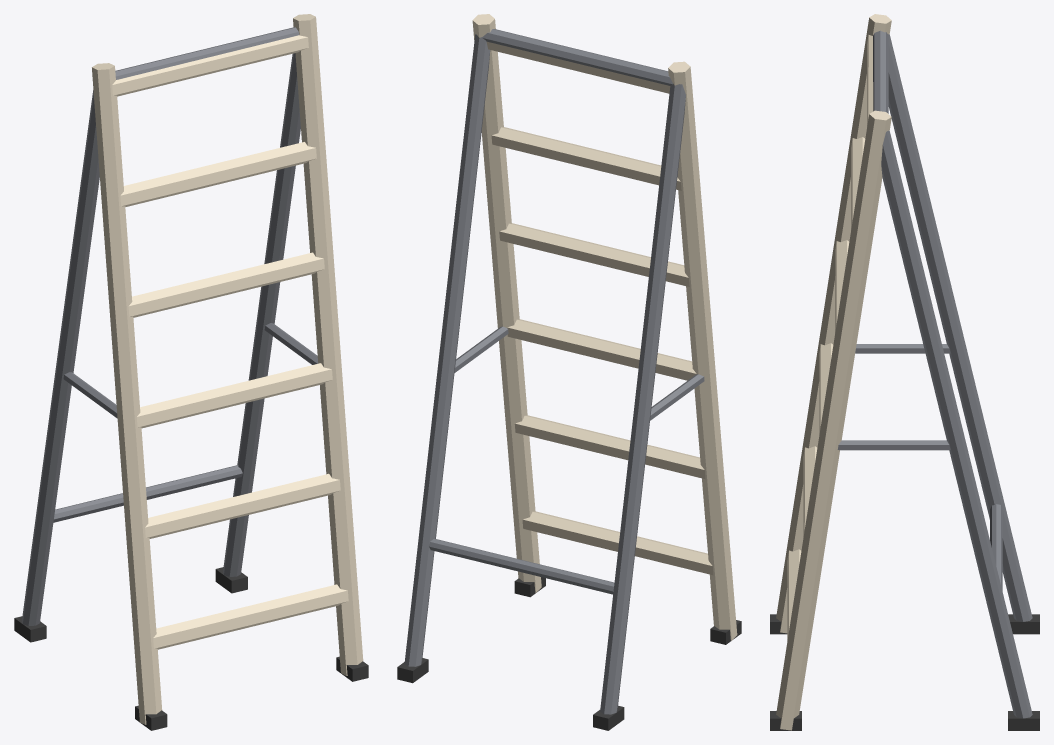
3 views of the same model, side by side, from view 1: azimuth 30°, elevation 25°; view 2: azimuth 150°, elevation 25°; view 3: azimuth 270°, elevation 25° (orthographic). The views are drawn at different scales.
Parts seen in each view (by area): view 1: Rail, Rail.001, Rear support leg, Rear support leg.001, Rung.004, Rung.003, Rung.002, Rung, Rung.001, Rung.005, Rear lower cross brace, Top hinge (+2 smaller); view 2: Rail, Rear support leg, Rear support leg.001, Rail.001, Rung, Rung.001, Rung.004, Rung.003, Rung.002, Top hinge, Rear lower cross brace, Rung.005 (+2 smaller); view 3: Rail.001, Rear support leg.001, Rear support leg, Rail, Top hinge, Open position spreader.001, Rear lower cross brace, Open position spreader, Rung.001, Rung.003, Rung.004, Rung (+4 smaller).
Part boxes in pixels (<box>): Rail: <box>92,63,162,724</box>; Rail.001: <box>293,14,363,675</box>; Rear support leg: <box>22,90,99,625</box>; Rear support leg.001: <box>223,53,300,576</box>; Rung.004: <box>120,142,316,206</box>; Rung.003: <box>128,252,324,317</box>; Rung.002: <box>136,363,332,428</box>; Rung: <box>153,584,348,649</box>; Rung.001: <box>145,473,340,538</box>; Rung.005: <box>112,35,308,96</box>; Rear lower cross brace: <box>53,465,242,522</box>; Top hinge: <box>115,27,299,79</box>; Rail: <box>668,61,737,640</box>; Rear support leg: <box>600,83,685,714</box>; Rear support leg.001: <box>404,34,490,666</box>; Rail.001: <box>472,14,541,592</box>; Rung: <box>522,511,713,575</box>; Rung.001: <box>514,415,705,479</box>; Rung.004: <box>491,127,681,190</box>; Rung.003: <box>499,223,689,286</box>; Rung.002: <box>507,319,696,380</box>; Top hinge: <box>482,29,672,85</box>; Rear lower cross brace: <box>428,539,614,594</box>; Rung.005: <box>486,41,670,93</box>; Rail.001: <box>776,110,891,730</box>; Rear support leg.001: <box>881,130,1032,718</box>; Rear support leg: <box>888,34,1032,621</box>; Rail: <box>776,14,891,633</box>; Top hinge: <box>873,30,888,113</box>; Open position spreader.001: <box>837,440,950,450</box>; Rear lower cross brace: <box>990,504,1002,590</box>; Open position spreader: <box>855,344,950,353</box>; Rung.001: <box>803,446,817,537</box>; Rung.003: <box>835,240,849,333</box>; Rung.004: <box>851,137,865,229</box>; Rung: <box>787,549,801,640</box>.
Size of the model in its own units: 0.5433 by 1.48 by 0.59.
1 material, 1 textured.
